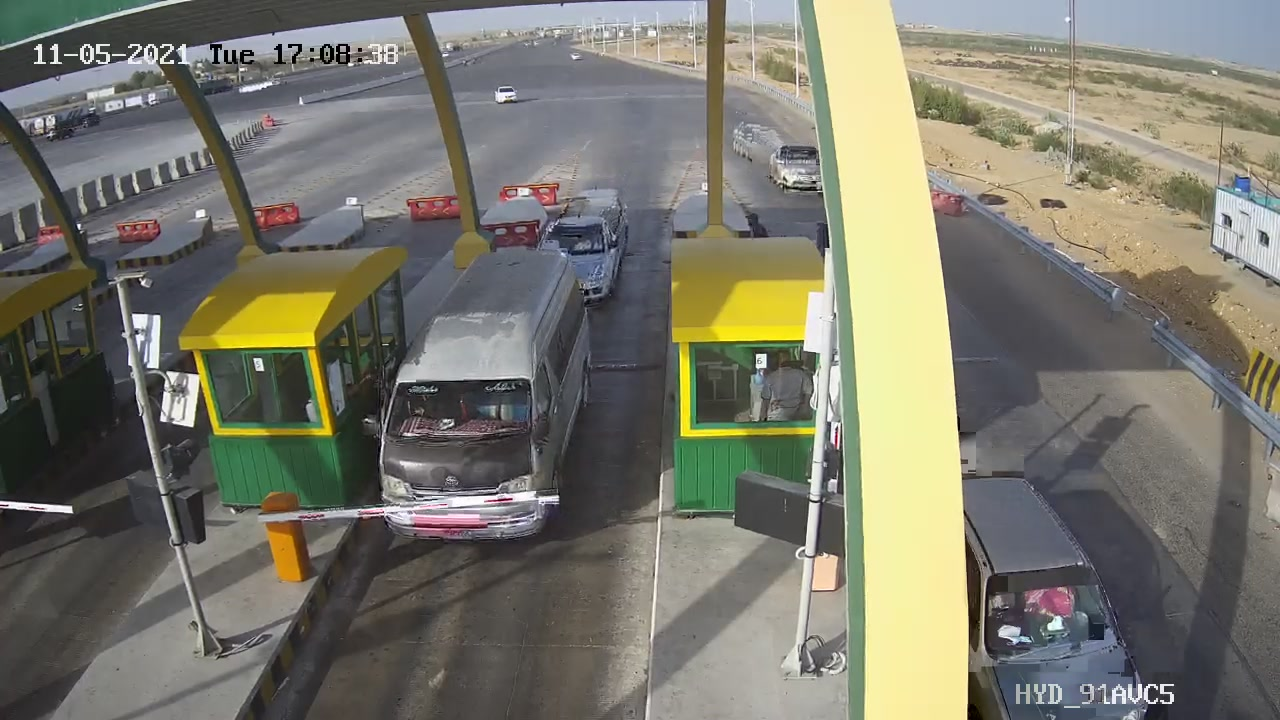F2: (350, 235, 611, 565)
